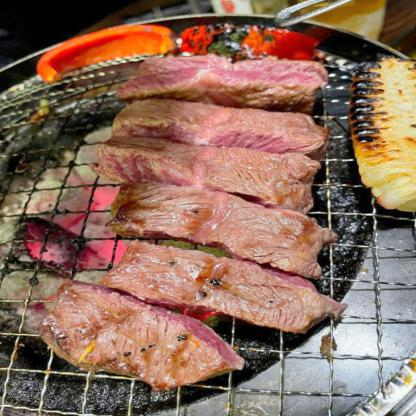Carne: (23, 282, 237, 388), (94, 245, 334, 330), (98, 186, 330, 260), (72, 141, 332, 193), (103, 99, 336, 156), (98, 57, 335, 106)
